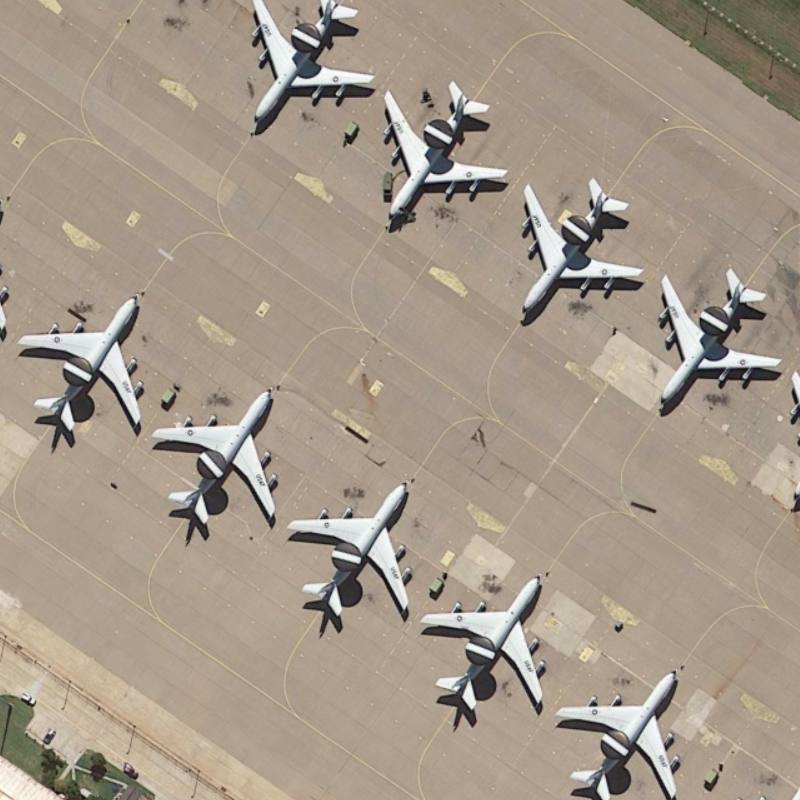A7: (10, 282, 161, 444), (150, 377, 287, 544), (376, 71, 515, 234), (644, 261, 790, 415), (283, 471, 420, 633), (512, 172, 651, 330), (416, 564, 551, 722), (235, 2, 381, 139), (548, 667, 683, 800)
